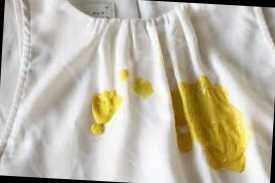mustard: (164, 75, 236, 168), (203, 108, 247, 175), (88, 88, 119, 139), (131, 73, 152, 96), (120, 67, 133, 83)
